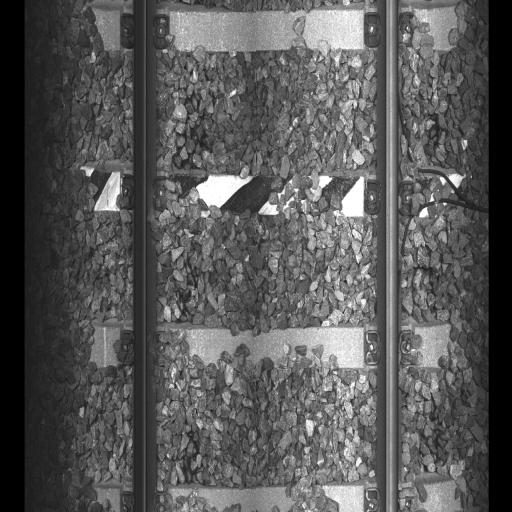sleeper: (72, 161, 471, 229), (71, 316, 471, 380), (73, 2, 471, 58), (71, 473, 472, 509)
